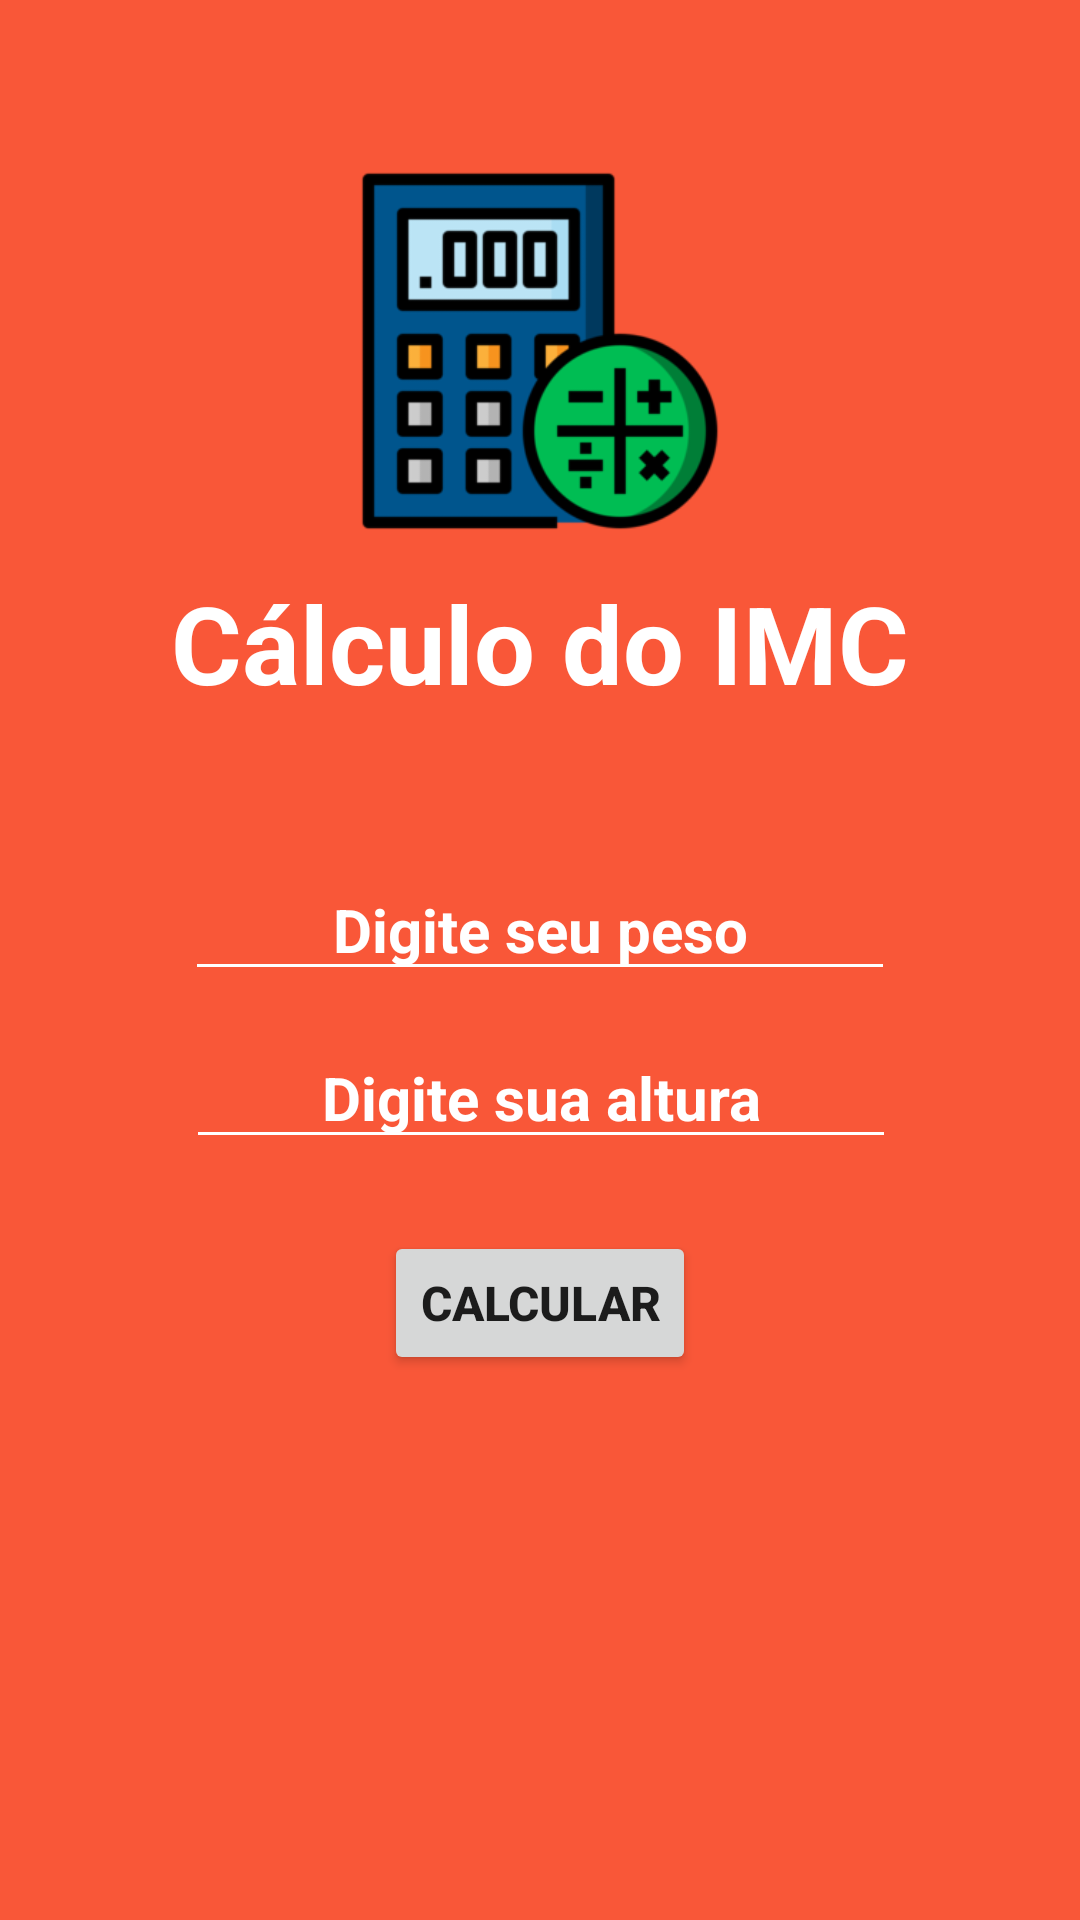

Where to tap for icons on this 1080px x 1920px app screen, as (x,y):
calculator: (540,351)
